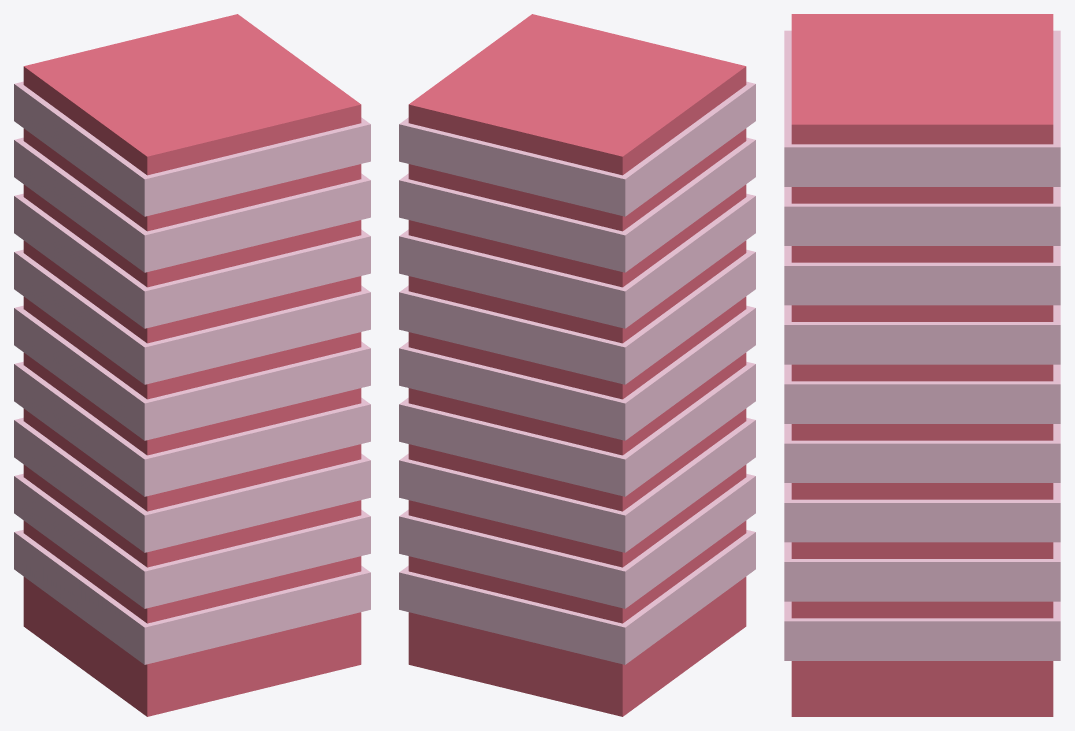
Rendered from Optimized_House_03.fbx.
3 renders of one model, left to right at view 1: azimuth 30°, elevation 25°; view 2: azimuth 150°, elevation 25°; view 3: azimuth 270°, elevation 25°, orthographic. The views are drawn at different scales.
Parts seen in each view (by area): view 1: Optimized_03; view 2: Optimized_03; view 3: Optimized_03.
Part boxes in pixels (left/top/right/bottom): Optimized_03: left=14, top=14, right=370, bottom=716; Optimized_03: left=399, top=14, right=755, bottom=716; Optimized_03: left=784, top=14, right=1060, bottom=716.
Size of what is drawn, in the model's own units: 1267 by 3000 by 1267.
1 material, 1 textured.
